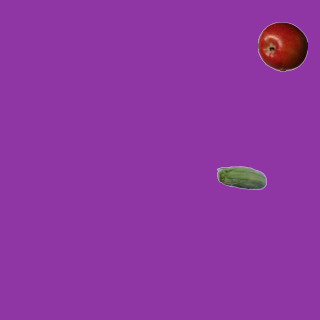Apple Braeburn: (257, 21, 307, 71)
Corn Husk: (216, 154, 266, 204)
